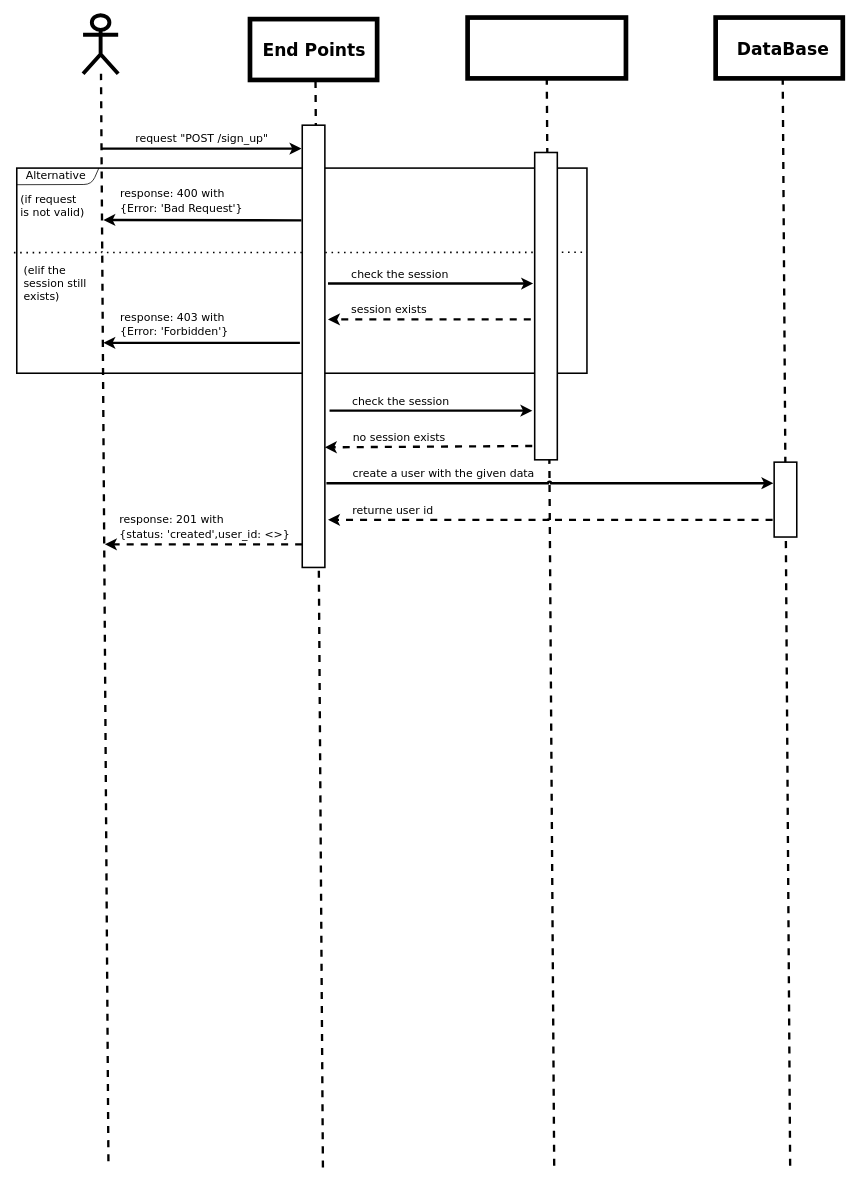
Image size: 859x1183. Some labels were removed from this diagram. Here are the shapes that lost their labels. From the top down, the centre of each, then its label:
At (100,44): "User".
At (546,47): "Authentication".
